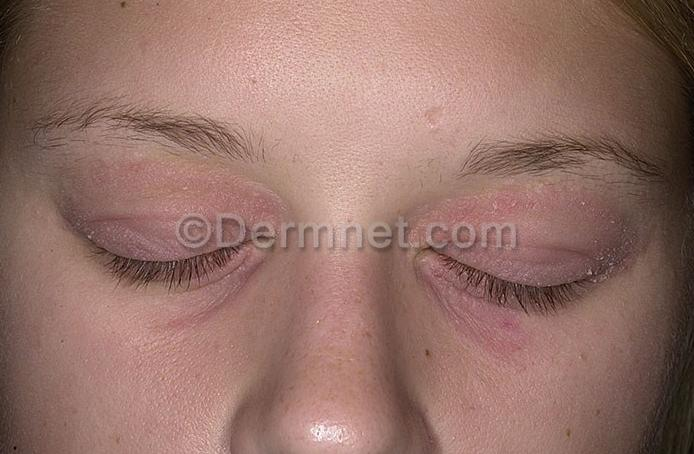eritema 1: (47, 163, 285, 272), (418, 190, 639, 299)
xerosis 1: (50, 160, 284, 272), (419, 190, 640, 295)
